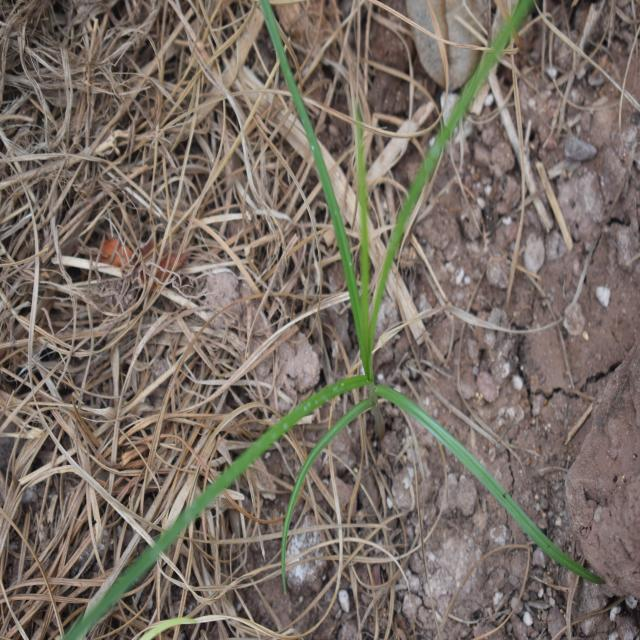sedge: (89, 28, 540, 568)
